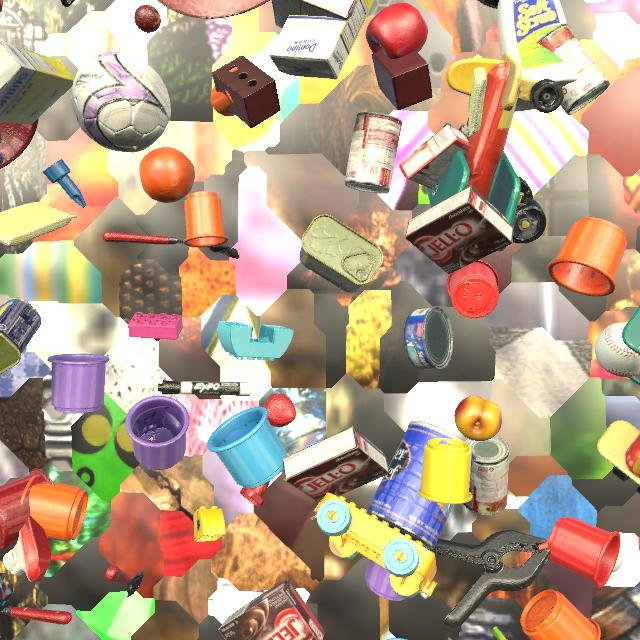ycb_002_master_chef_can: (366, 420, 477, 550)
ycb_004_sugar_box: (269, 0, 374, 80), (0, 40, 75, 125)
ycb_005_tomato_soup_can: (536, 23, 610, 115), (345, 112, 403, 194), (463, 435, 509, 516)
ycb_007_tuna_fish_can: (404, 307, 453, 370)
ycb_008_pudding_box: (405, 185, 514, 274), (282, 426, 390, 503), (218, 579, 326, 640), (272, 0, 357, 28)
ycb_009_gelatin_box: (399, 124, 471, 189)
ycb_010_potted_meat_can: (299, 214, 383, 293), (0, 297, 42, 374)
ycb_011_banana: (492, 627, 507, 640)
ycb_012_strawberry: (263, 393, 296, 427)
ycb_013_apple: (366, 2, 428, 59)
ycb_015_peach: (454, 396, 502, 441)
ycb_017_orange: (139, 147, 195, 203)
